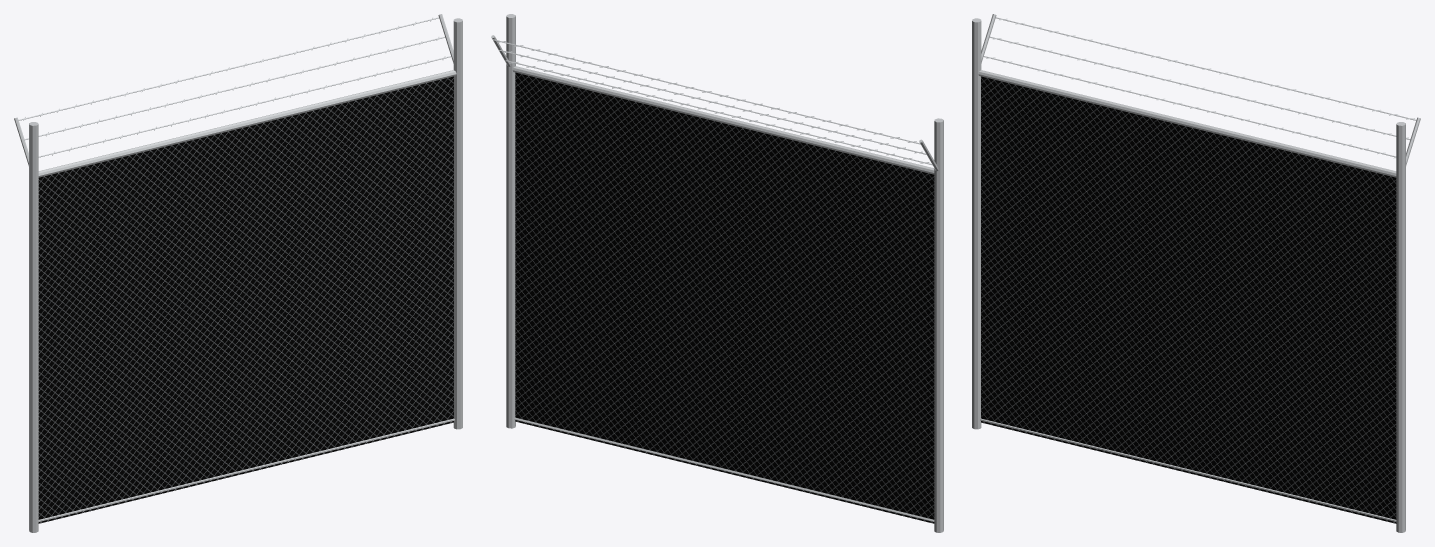
Rendered from fence.glb.
3 renders of one model, left to right at view 1: azimuth 30°, elevation 25°; view 2: azimuth 150°, elevation 25°; view 3: azimuth 330°, elevation 25°, orthographic.
Visible parts, largest first — view 1: fence; view 2: fence; view 3: fence.
Boxes of the visible parts, x1=… form: fence: x1=14, y1=14, x2=462, y2=532; fence: x1=491, y1=14, x2=943, y2=532; fence: x1=972, y1=14, x2=1420, y2=532.
Size of the model in its own units: 3.06 by 2.75 by 0.2715.
2 materials, 1 textured.
